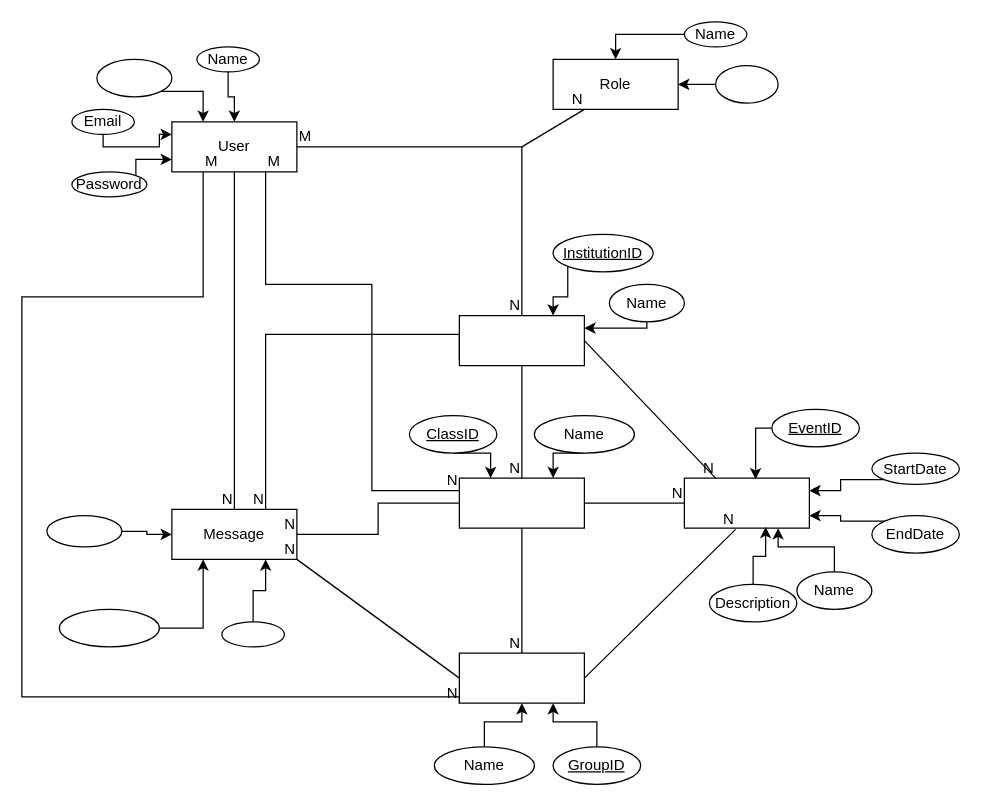
Some shapes in this 981 by 806 pixel diagram are drawn without their labels. Here are the shapes that lost their labels. From the top down, the centre of each, then its label:
At point (134, 77): "UserID".
At point (746, 83): "RoleID".
At point (521, 340): "Instituition".
At point (521, 502): "Class".
At point (746, 502): "Event".
At point (84, 530): "Content".
At point (108, 627): "MessageID".
At point (252, 634): "Date".
At point (521, 677): "Group".
